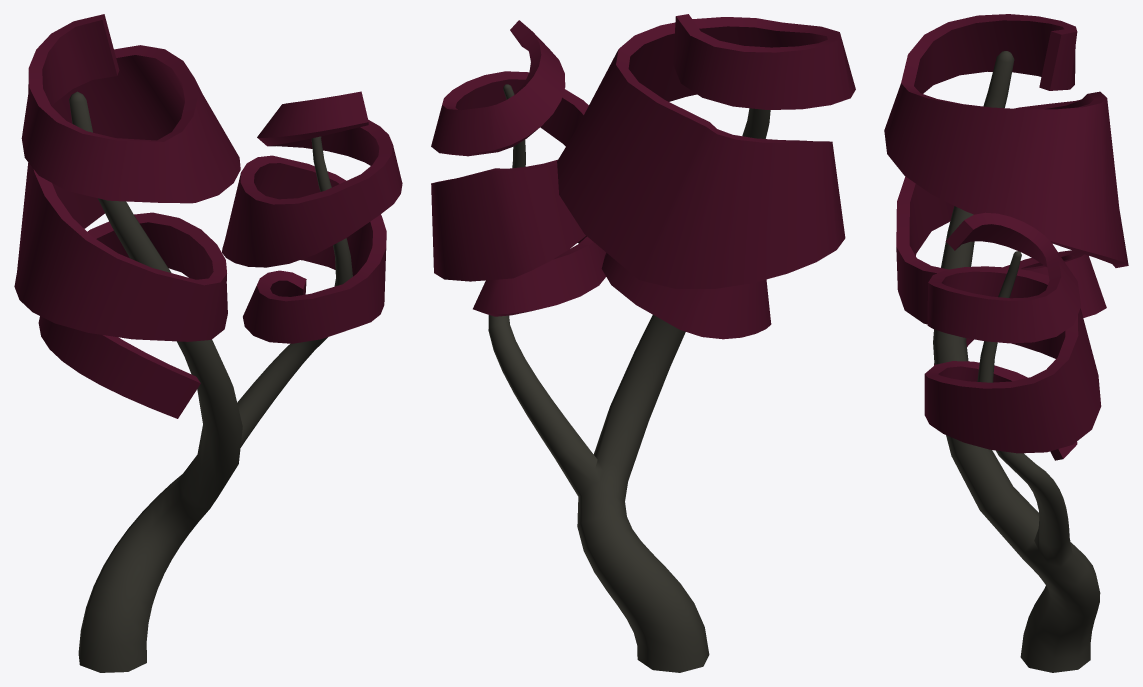
The model's file is Tree_Spiral_2.glb.
3 renders of one model, left to right at view 1: azimuth 30°, elevation 25°; view 2: azimuth 150°, elevation 25°; view 3: azimuth 270°, elevation 25°, orthographic. The views are drawn at different scales.
Parts seen in each view (by area): view 1: Tree_Spiral_2; view 2: Tree_Spiral_2; view 3: Tree_Spiral_2.
Boxes of the visible parts, left/top/right/bottom form: Tree_Spiral_2: left=14, top=14, right=402, bottom=672; Tree_Spiral_2: left=431, top=14, right=855, bottom=672; Tree_Spiral_2: left=884, top=14, right=1128, bottom=672.
Size of the model in its own units: 3.8 by 6.19 by 2.2.
Materials: 1 (1 with a texture image).
